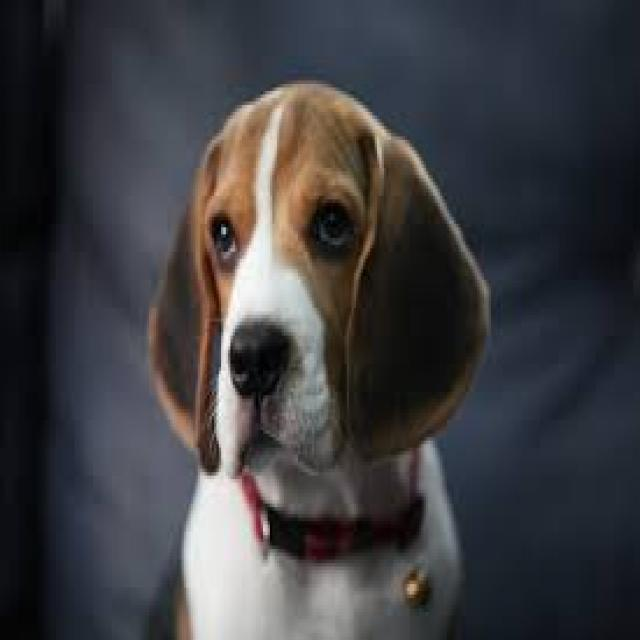Dog: (143, 73, 494, 640)
